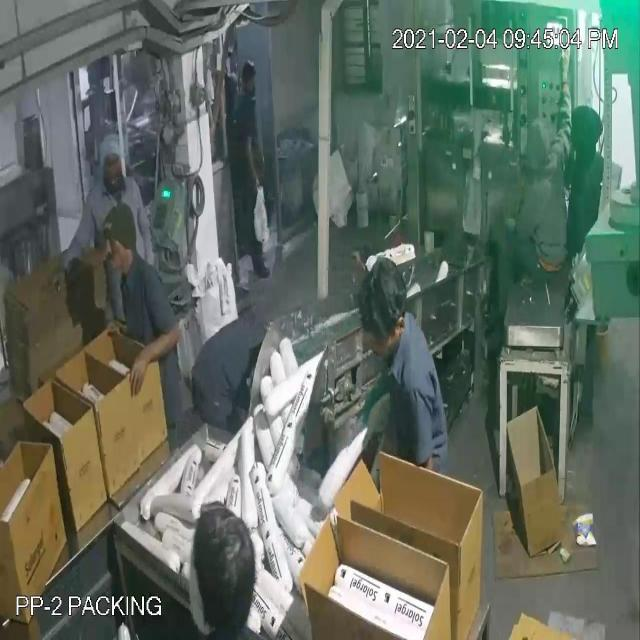No_Gloves: (32, 82, 564, 362)
